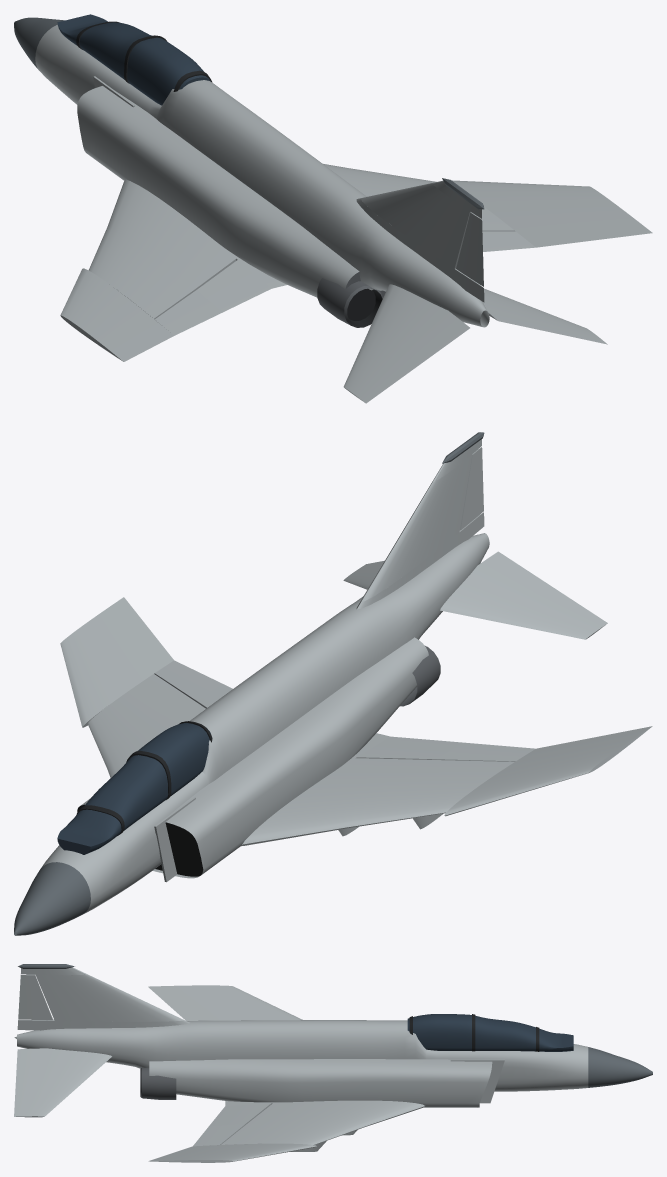
3 views of the same model, one above another, from view 1: azimuth 30°, elevation 25°; view 2: azimuth 150°, elevation 25°; view 3: azimuth 270°, elevation 25° (orthographic). The views are drawn at different scales.
Parts seen in each view (by area): view 1: Fuselage, Intakes, Wing L, Wing R, Elevator L, Vertical Fin, Cockpit Glass, Elevator R, Exhaust, Flap L, Aileron L, Rudder (+2 smaller); view 2: Fuselage, Intakes, Wing L, Wing R, Cockpit Glass, Vertical Fin, Elevator L, Flap L, Aileron R, Aileron L, Rudder, Exhaust (+1 smaller); view 3: Fuselage, Intakes, Wing R, Vertical Fin, Cockpit Glass, Elevator R, Wing L, Rudder, Exhaust, Flap R, Aileron R, Canopy Frame.
Part boxes in pixels (<box>): Fuselage: <box>14,17,489,327</box>; Intakes: <box>77,76,385,297</box>; Wing L: <box>60,179,286,361</box>; Wing R: <box>323,164,652,247</box>; Elevator L: <box>343,284,469,403</box>; Vertical Fin: <box>356,178,484,302</box>; Cockpit Glass: <box>57,14,210,105</box>; Elevator R: <box>482,288,607,344</box>; Exhaust: <box>317,278,382,327</box>; Flap L: <box>197,260,271,312</box>; Aileron L: <box>155,290,222,335</box>; Rudder: <box>456,212,483,286</box>; Fuselage: <box>14,533,489,935</box>; Intakes: <box>77,637,428,882</box>; Wing L: <box>241,726,652,846</box>; Wing R: <box>60,597,205,777</box>; Cockpit Glass: <box>57,723,210,854</box>; Vertical Fin: <box>356,432,484,609</box>; Elevator L: <box>440,551,607,639</box>; Flap L: <box>357,736,462,759</box>; Aileron R: <box>154,660,222,701</box>; Aileron L: <box>436,742,535,761</box>; Rudder: <box>460,447,483,530</box>; Exhaust: <box>400,646,440,706</box>; Fuselage: <box>17,1020,652,1091</box>; Intakes: <box>149,1059,504,1107</box>; Wing R: <box>148,1100,424,1162</box>; Vertical Fin: <box>17,964,189,1030</box>; Cockpit Glass: <box>407,1014,573,1051</box>; Elevator R: <box>14,1048,111,1117</box>; Wing L: <box>148,985,302,1020</box>; Rudder: <box>18,974,52,1020</box>; Exhaust: <box>140,1067,176,1099</box>; Flap R: <box>209,1103,270,1126</box>; Aileron R: <box>193,1124,244,1146</box>; Canopy Frame: <box>409,1014,539,1051</box>.
Size of the model in its own units: 11.48 by 4.14 by 17.7.
